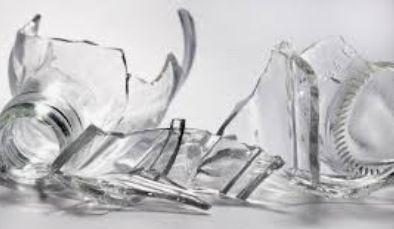glass: (0, 6, 200, 191), (209, 35, 394, 209)
